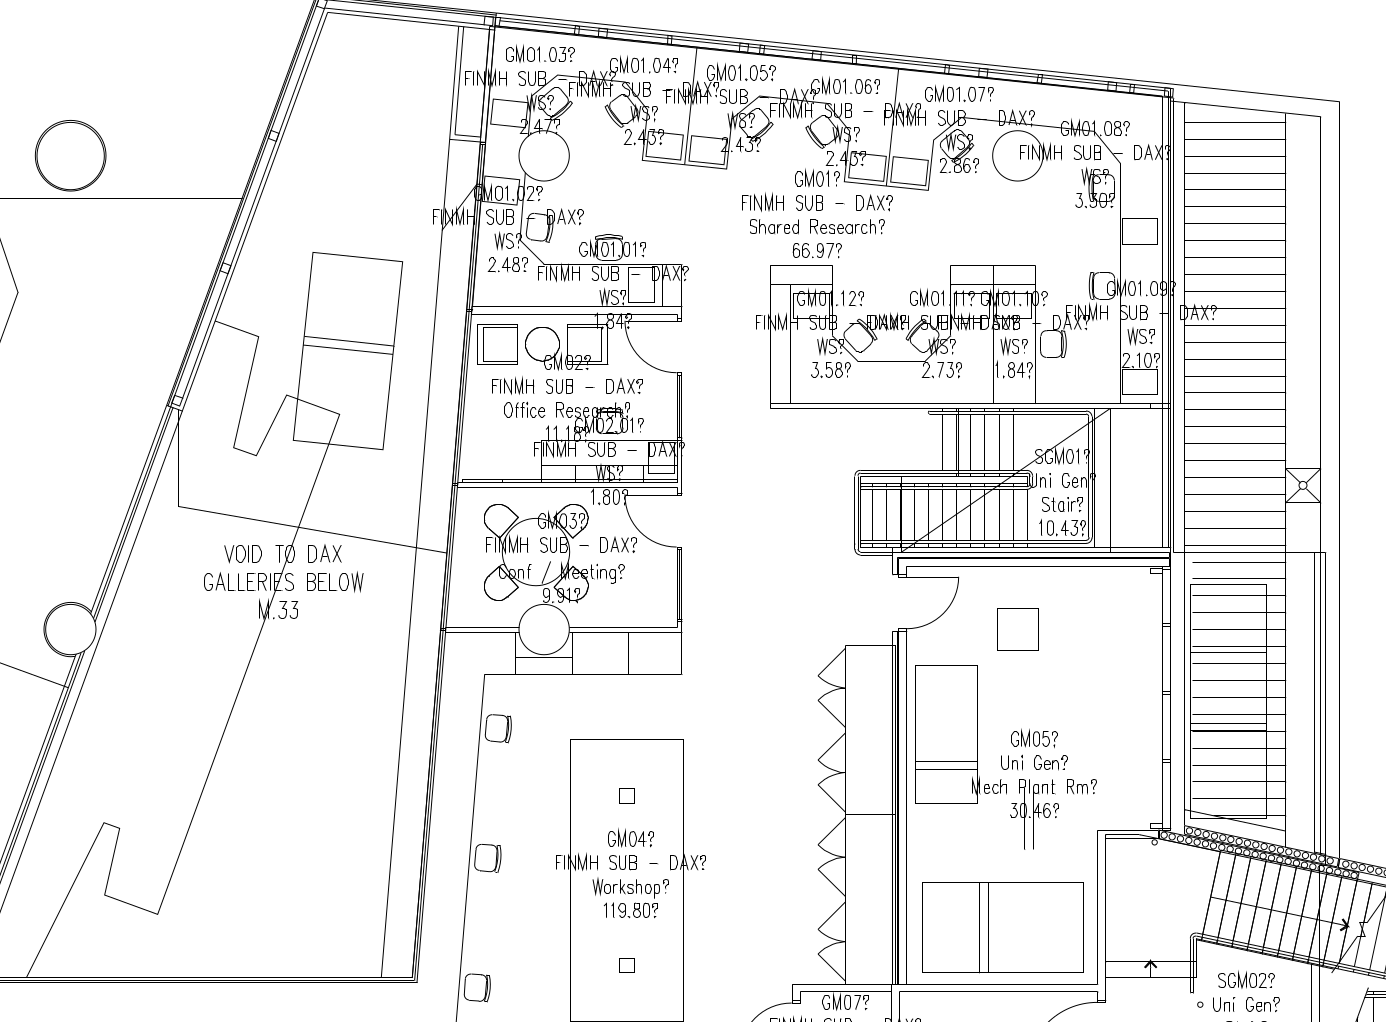door: (617, 489, 685, 553), (621, 317, 689, 381), (896, 571, 964, 635)
